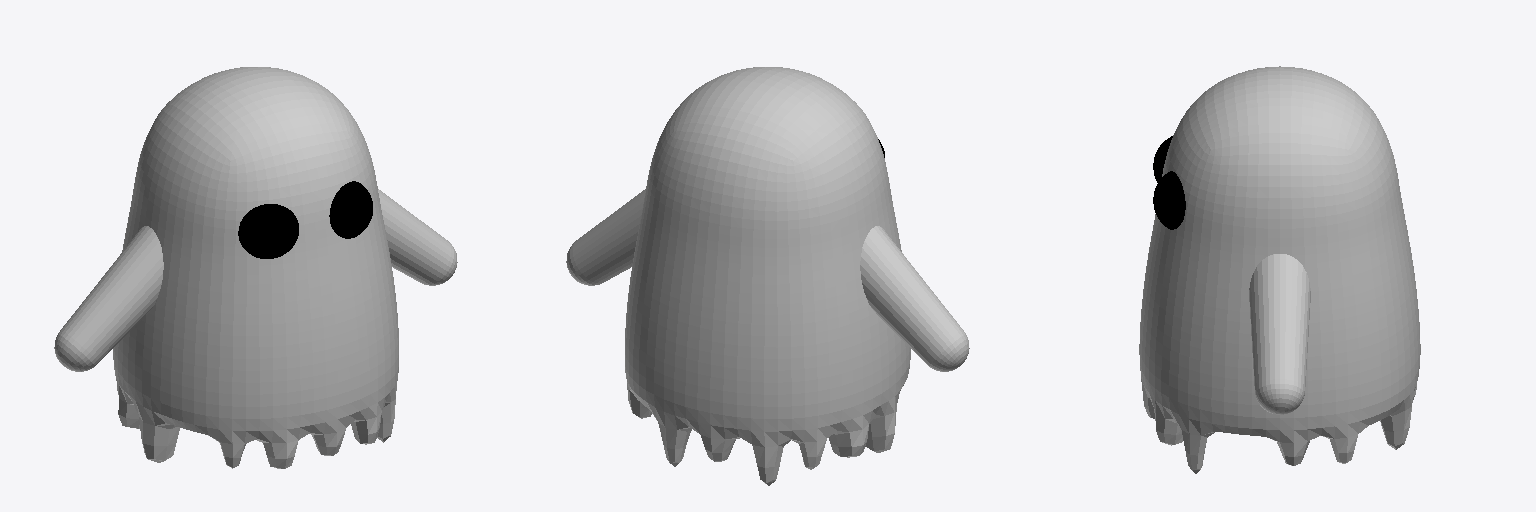
The model's file is powerup_ghost.obj.
3 views of the same model, side by side, from view 1: azimuth 30°, elevation 25°; view 2: azimuth 150°, elevation 25°; view 3: azimuth 270°, elevation 25° (orthographic).
Visible parts, largest first — view 1: Cube, Sphere, Sphere.001, Sphere.002, Sphere.003; view 2: Cube, Sphere, Sphere.001; view 3: Cube, Sphere.001, Sphere.003.
Part boxes in pixels (x1,y1,x2,y2): Cube: (113,67,398,468); Sphere: (54,226,163,371); Sphere.001: (378,189,457,285); Sphere.002: (238,204,298,258); Sphere.003: (329,181,372,238); Cube: (625,67,910,485); Sphere: (860,226,969,371); Sphere.001: (566,189,645,285); Cube: (1139,66,1420,473); Sphere.001: (1249,254,1310,414); Sphere.003: (1153,171,1185,229).
Bounding box in the file's own units: 3.29 × 2.81 × 2.02.